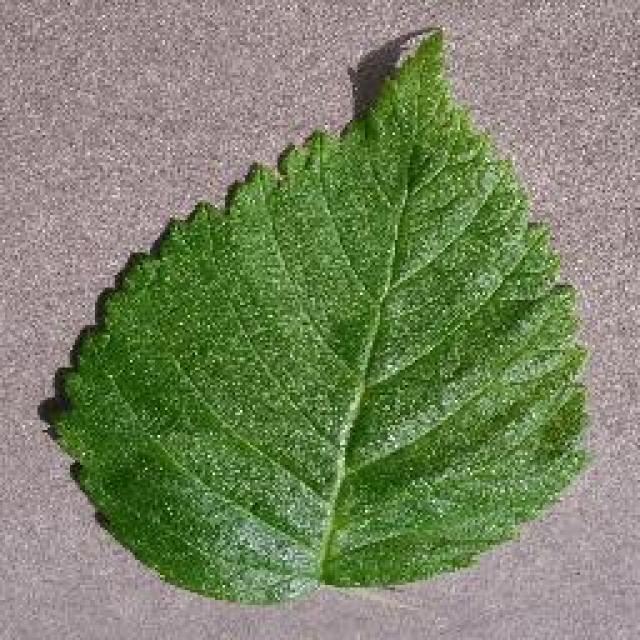Ras_healthy: (70, 126, 556, 526)
